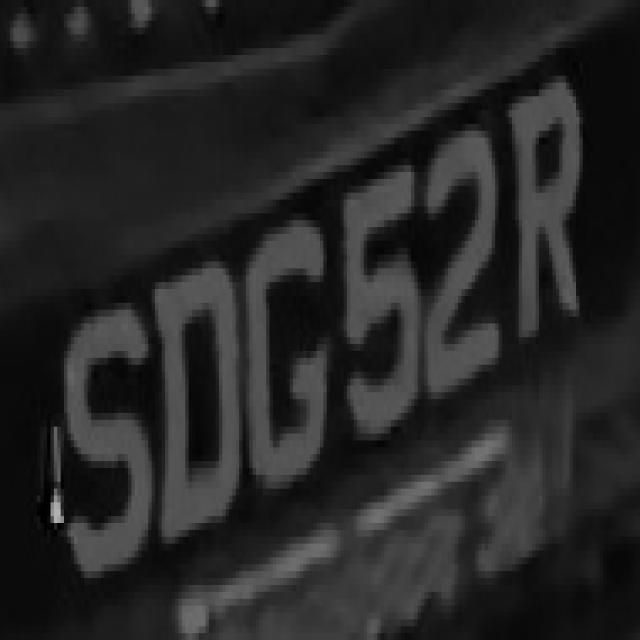2: (408, 124, 498, 406)
5: (327, 172, 424, 475)
D: (148, 262, 243, 571)
G: (243, 186, 340, 516)
R: (508, 76, 582, 351)
S: (57, 275, 152, 585)
